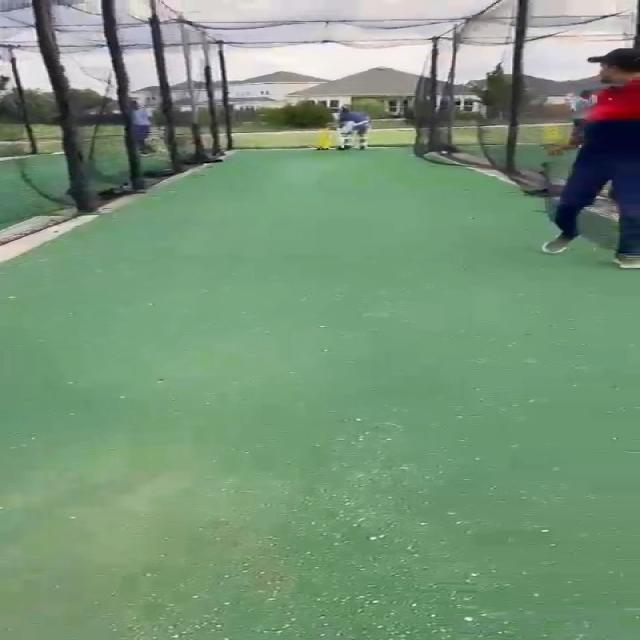batsman: (323, 102, 373, 152)
